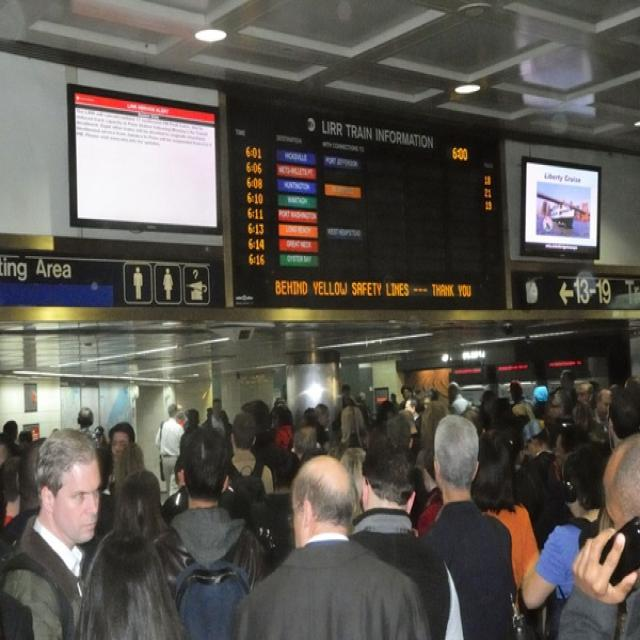body: (225, 452, 435, 640), (369, 362, 639, 483), (154, 424, 272, 640), (348, 432, 464, 640), (416, 412, 518, 640), (520, 442, 618, 640), (14, 427, 104, 637), (470, 430, 542, 638), (72, 523, 190, 640), (549, 439, 606, 599), (241, 382, 369, 451), (73, 402, 146, 500), (0, 414, 48, 549), (223, 411, 277, 523), (110, 466, 171, 544), (177, 397, 235, 466), (154, 401, 186, 499), (260, 449, 307, 504)
